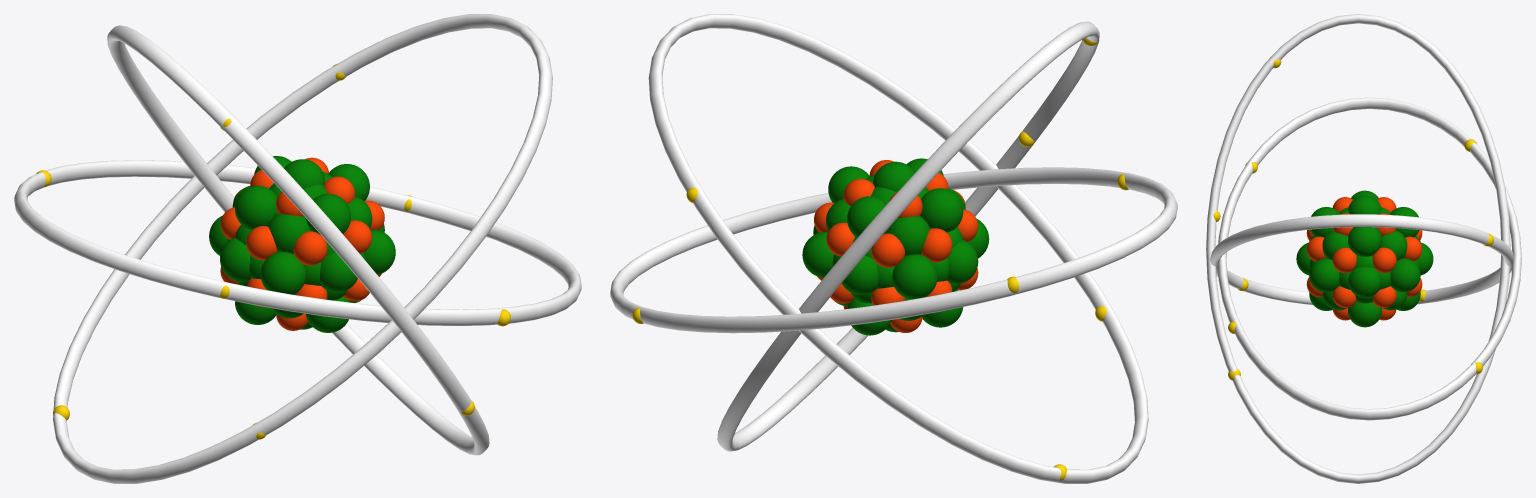
The model's file is ModeloAtomo4.dae.
3 views of the same model, side by side, from view 1: azimuth 30°, elevation 25°; view 2: azimuth 150°, elevation 25°; view 3: azimuth 270°, elevation 25° (orthographic). The views are drawn at different scales.
Visible parts, largest first — view 1: Rata (×3), Protoni (×11), Neutroni (×3); view 2: Rata (×3), Protoni (×9), Neutroni (×3); view 3: Rata (×3), Protoni (×10), Neutroni (×6).
Boxes of the visible parts, x1,y1,x2,y2 form: Rata (×3): (14, 14, 581, 483); Protoni (×11): (220, 159, 395, 332); Neutroni (×3): (246, 220, 372, 265); Rata (×3): (610, 14, 1177, 483); Protoni (×9): (802, 161, 978, 299); Neutroni (×3): (826, 222, 952, 267); Rata (×3): (1206, 14, 1521, 483); Protoni (×10): (1309, 195, 1420, 327); Neutroni (×6): (1306, 236, 1422, 307).
Size of the model in its own units: 210 by 145 by 181.
